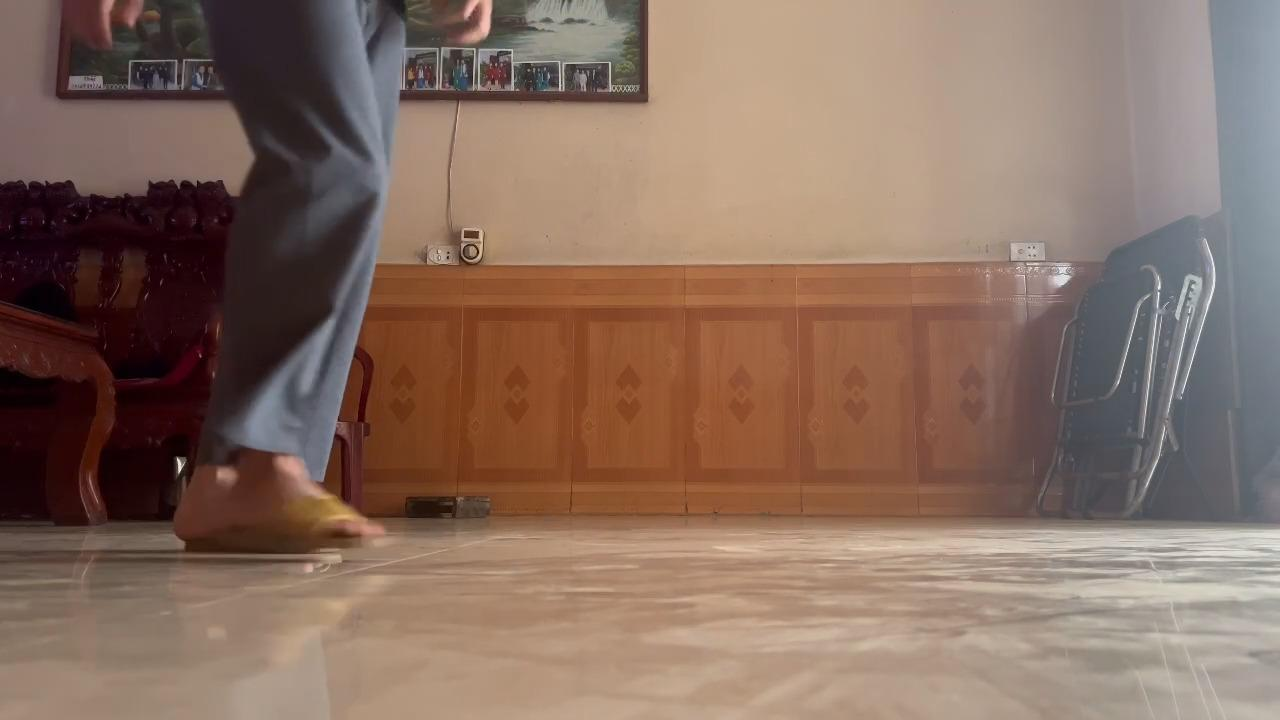no-boot: (160, 469, 398, 566)
